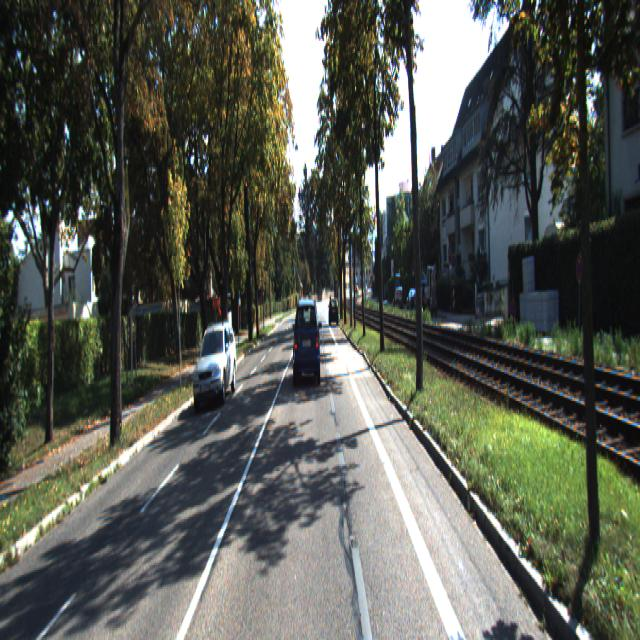Car: (192, 321, 238, 411), (293, 302, 322, 394), (329, 302, 339, 331)
